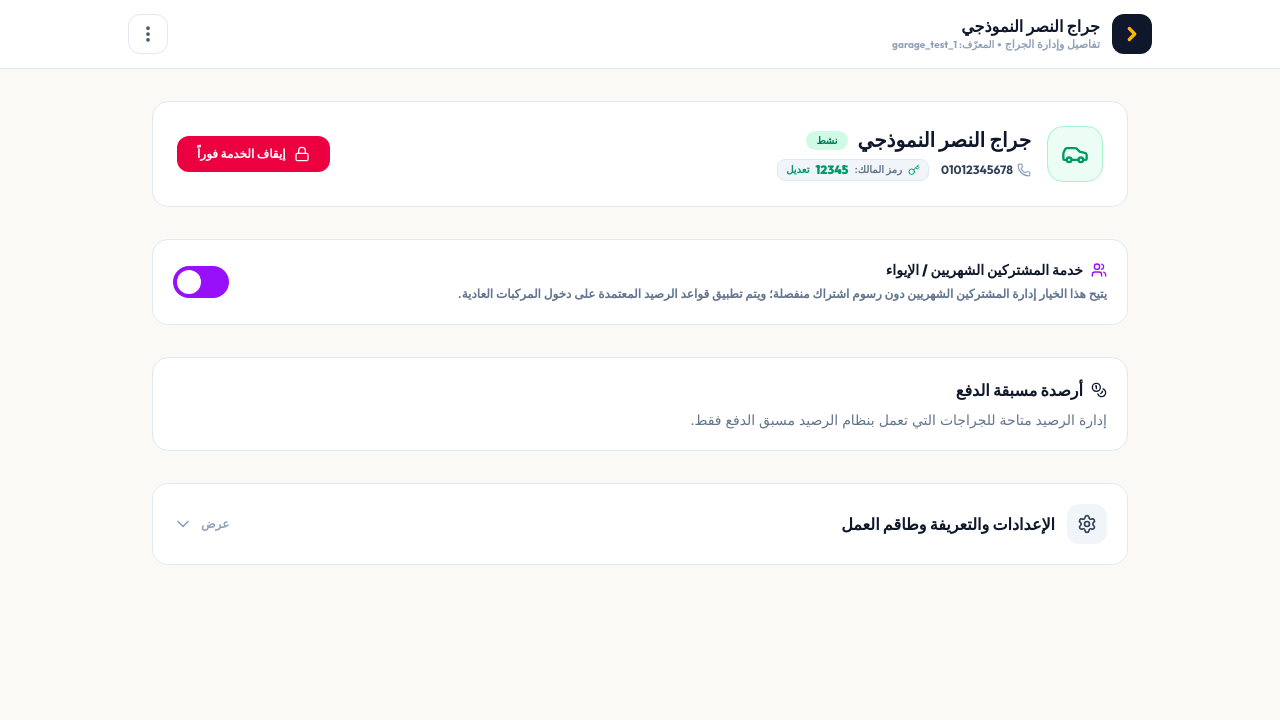
Modularized Admin Components Integrity › updates the visible Staff list immediately after successful create and delete
Click the heading "الإعدادات والتعريفة وطاقم العمل": coordinates (948, 524) [841, 512, 1055, 536]
(page scrolled)
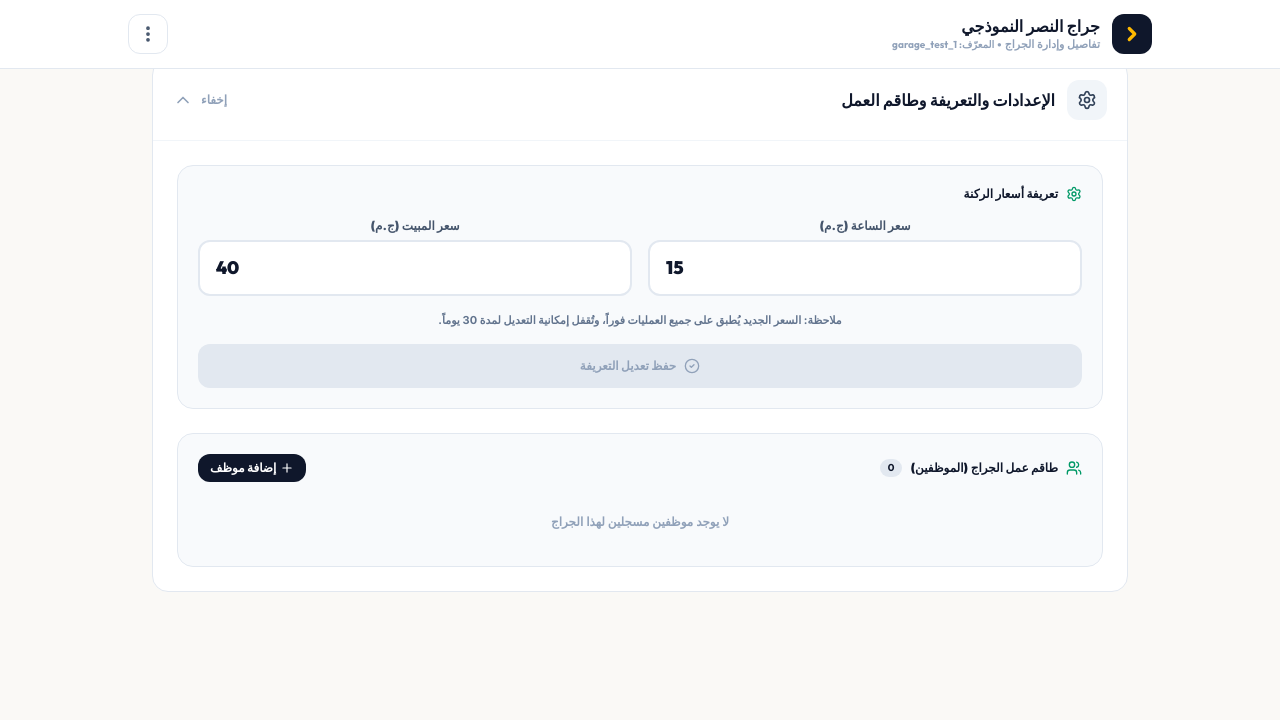
Click the button "إضافة موظف": coordinates (252, 468) [198, 454, 306, 482]
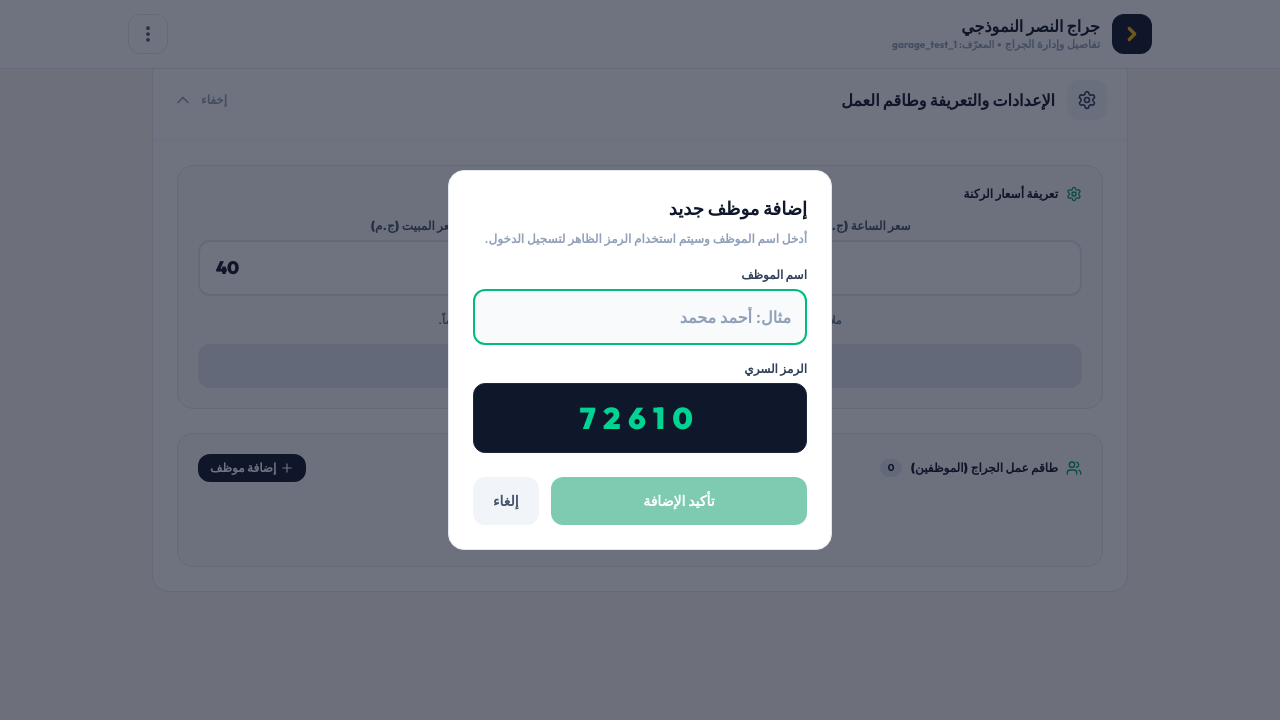
In the field with placeholder "مثال: أحمد محمد": coordinates (640, 317) [473, 289, 807, 345], type "H Staff Probe"
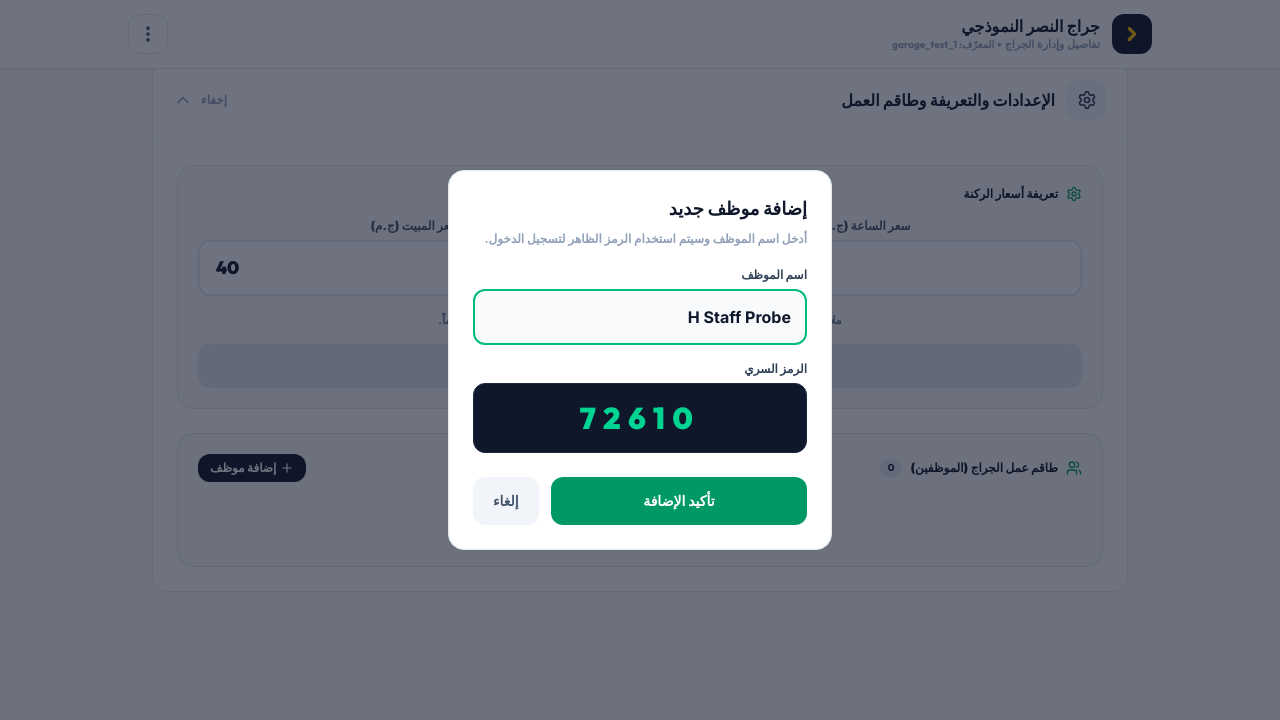
Click the button "تأكيد الإضافة": coordinates (679, 501) [551, 477, 807, 525]
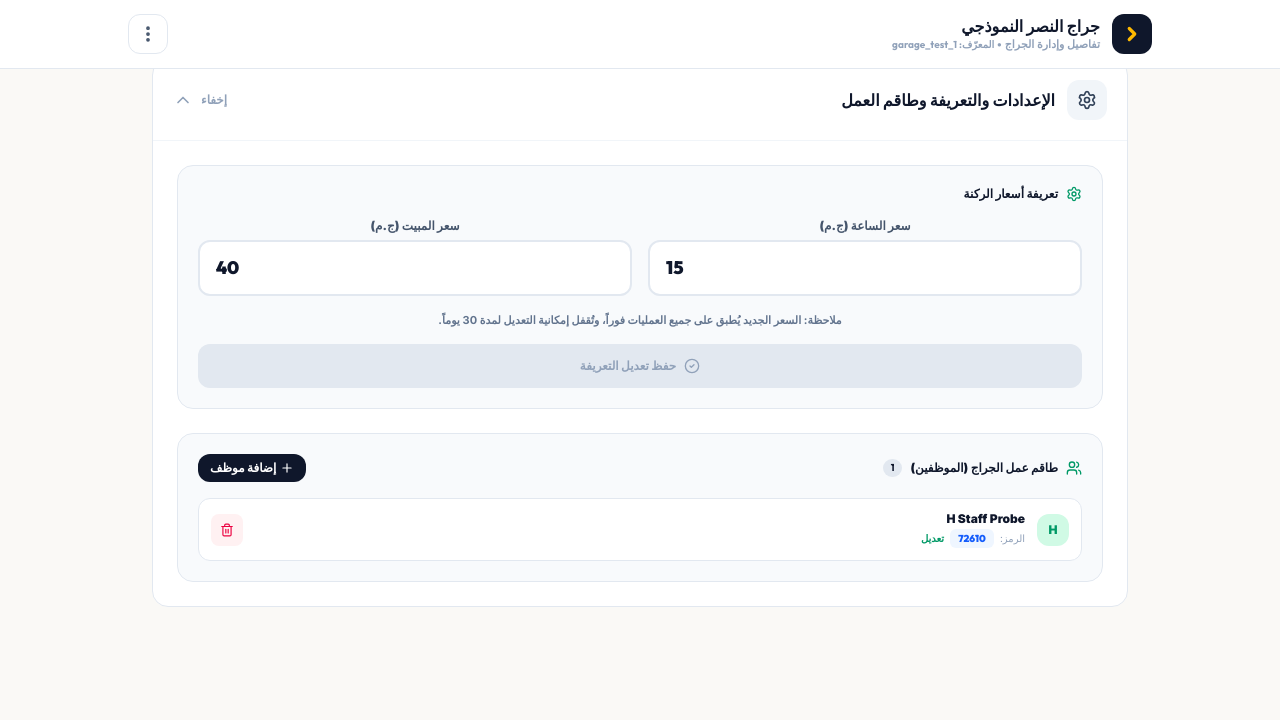
Result: the text "H Staff Probe" is shown at [946, 511, 1025, 526]
Click the button titled "حذف الموظف": coordinates (227, 530) [211, 514, 243, 546]
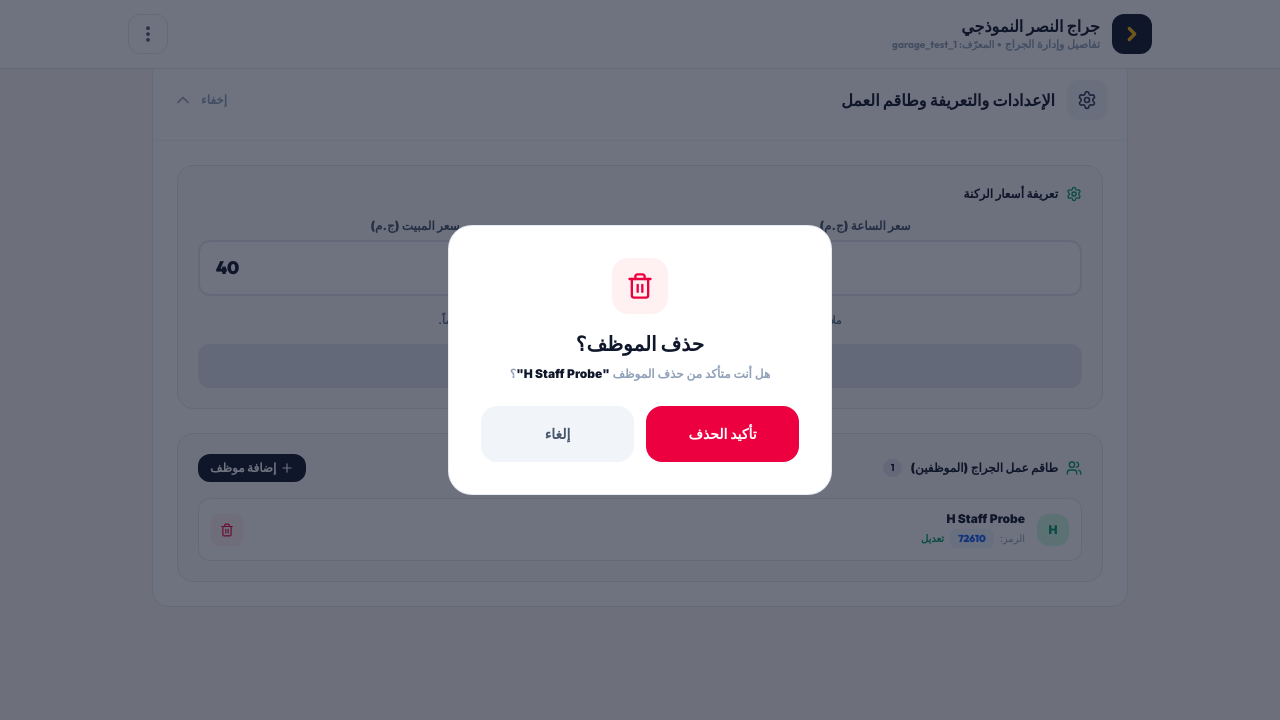
Click the button "تأكيد الحذف": coordinates (722, 434) [646, 406, 799, 462]
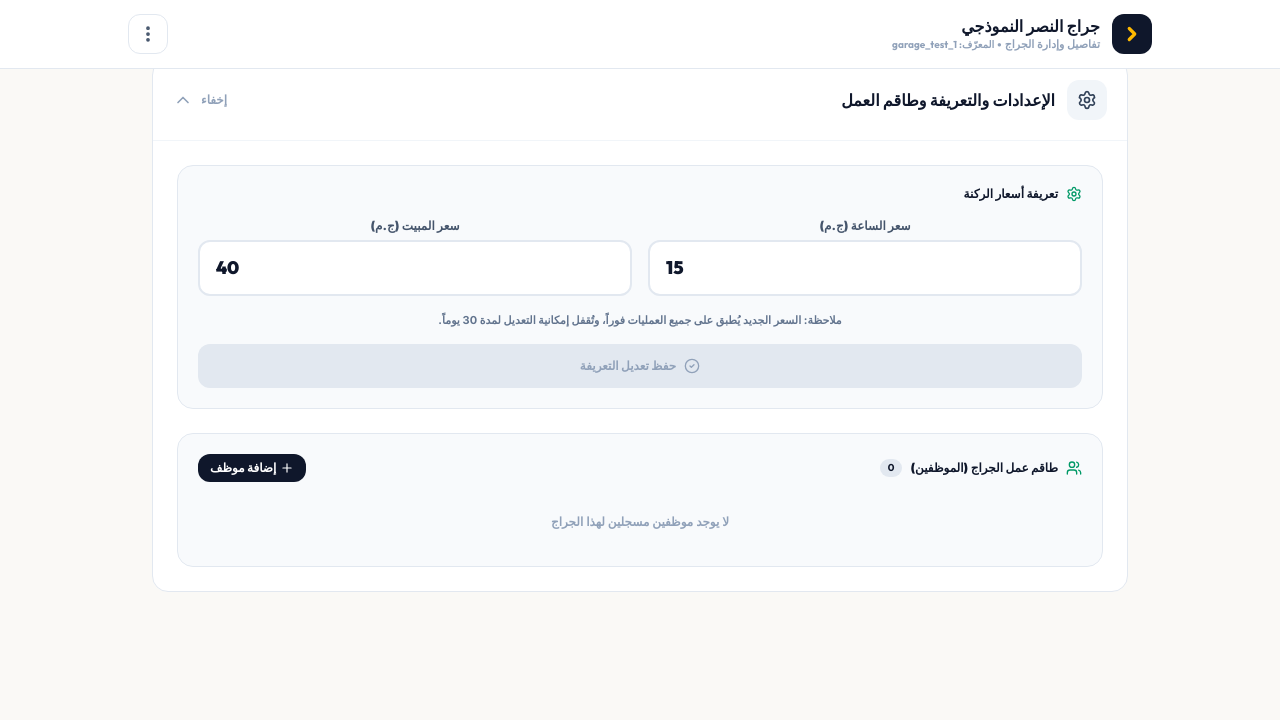
Result: the text "H Staff Probe" is gone
